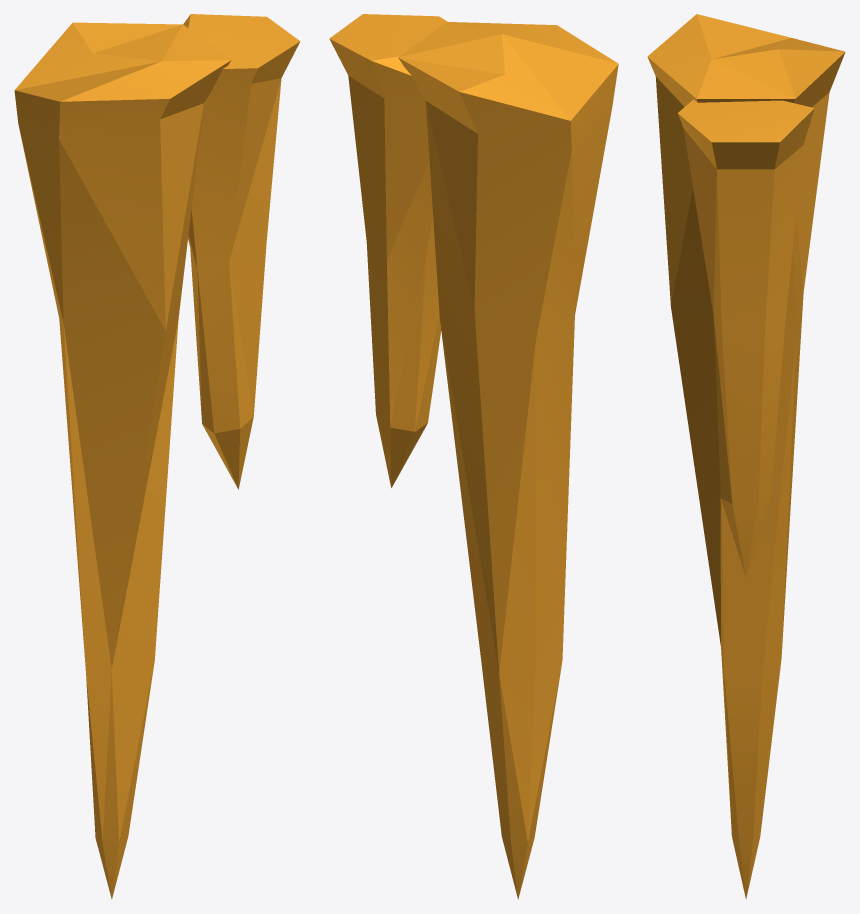
Rendered from SM_Icicle_B.fbx.
3 renders of one model, left to right at view 1: azimuth 30°, elevation 25°; view 2: azimuth 150°, elevation 25°; view 3: azimuth 270°, elevation 25°, orthographic.
Visible parts, largest first — view 1: icicle-b; view 2: icicle-b; view 3: icicle-b.
Part boxes in pixels (left/top/right/bottom): icicle-b: left=14, top=14, right=300, bottom=899; icicle-b: left=329, top=14, right=618, bottom=899; icicle-b: left=647, top=14, right=845, bottom=899.
Bounding box in the file's own units: 0.507 × 1.65 × 0.3459.
